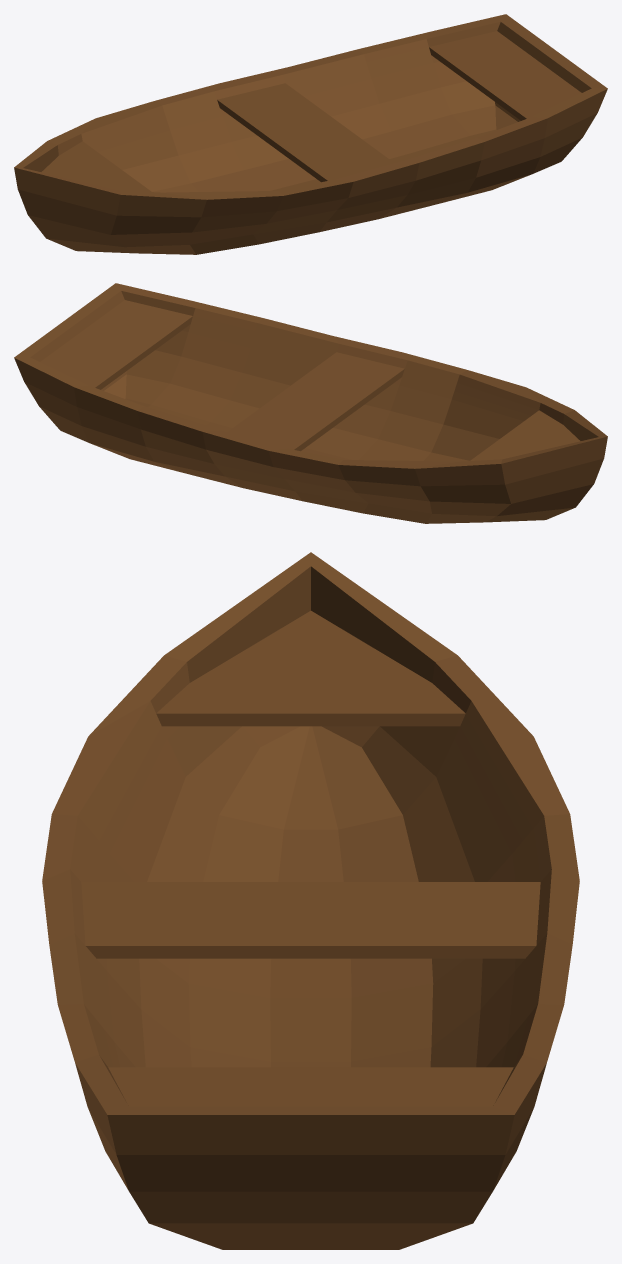
Rendered from Boat.fbx.
3 renders of one model, top to bottom at view 1: azimuth 30°, elevation 25°; view 2: azimuth 150°, elevation 25°; view 3: azimuth 270°, elevation 25°, orthographic. The views are drawn at different scales.
Visible parts, largest first — view 1: Boat; view 2: Boat; view 3: Boat.
Boxes of the visible parts, x1=… form: Boat: x1=14, y1=14, x2=607, y2=254; Boat: x1=14, y1=283, x2=607, y2=523; Boat: x1=42, y1=552, x2=579, y2=1249.
Bounding box in the file's own units: 399 × 78.66 × 171.
